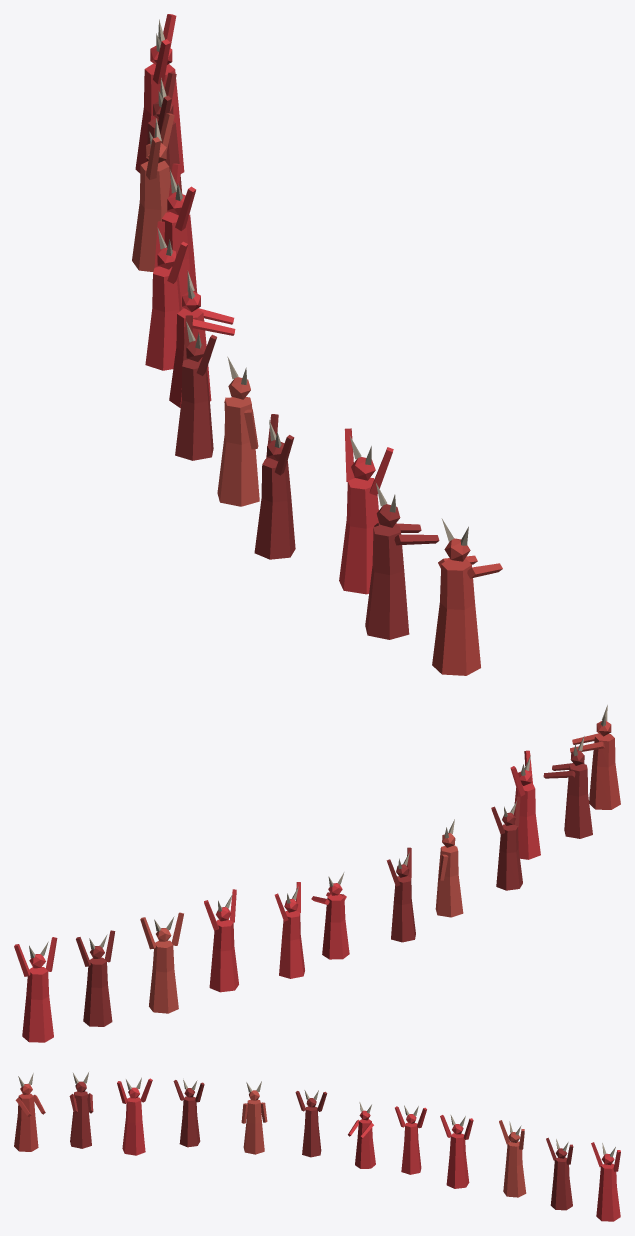
The model's file is Stands_8_0_2.obj.
The picture shows the model from 3 angles, top to bottom: view 1: azimuth 30°, elevation 25°; view 2: azimuth 150°, elevation 25°; view 3: azimuth 270°, elevation 25°; orthographic projection. The views are drawn at different scales.
Parts seen in each view (by area): view 1: Stands_8_0_2; view 2: Stands_8_0_2; view 3: Stands_8_0_2.
Boxes of the visible parts, x1,y1,x2,y2 form: Stands_8_0_2: (132,14,502,675); Stands_8_0_2: (14,705,620,1042); Stands_8_0_2: (14,1072,620,1221).
Bounding box in the file's own units: 10.38 × 4.17 × 31.44.
1 material, 1 textured.
